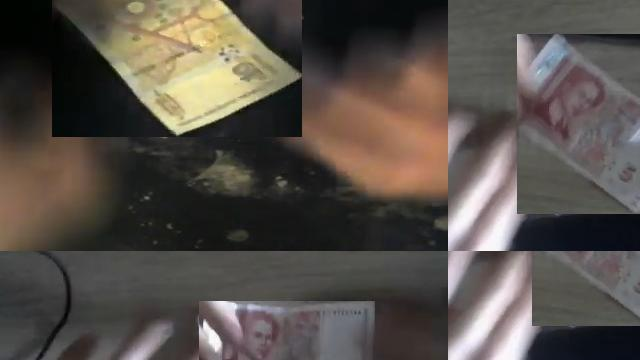10leva: (52, 0, 302, 137)
5leva: (517, 34, 640, 214), (220, 301, 375, 360), (539, 251, 640, 322)
